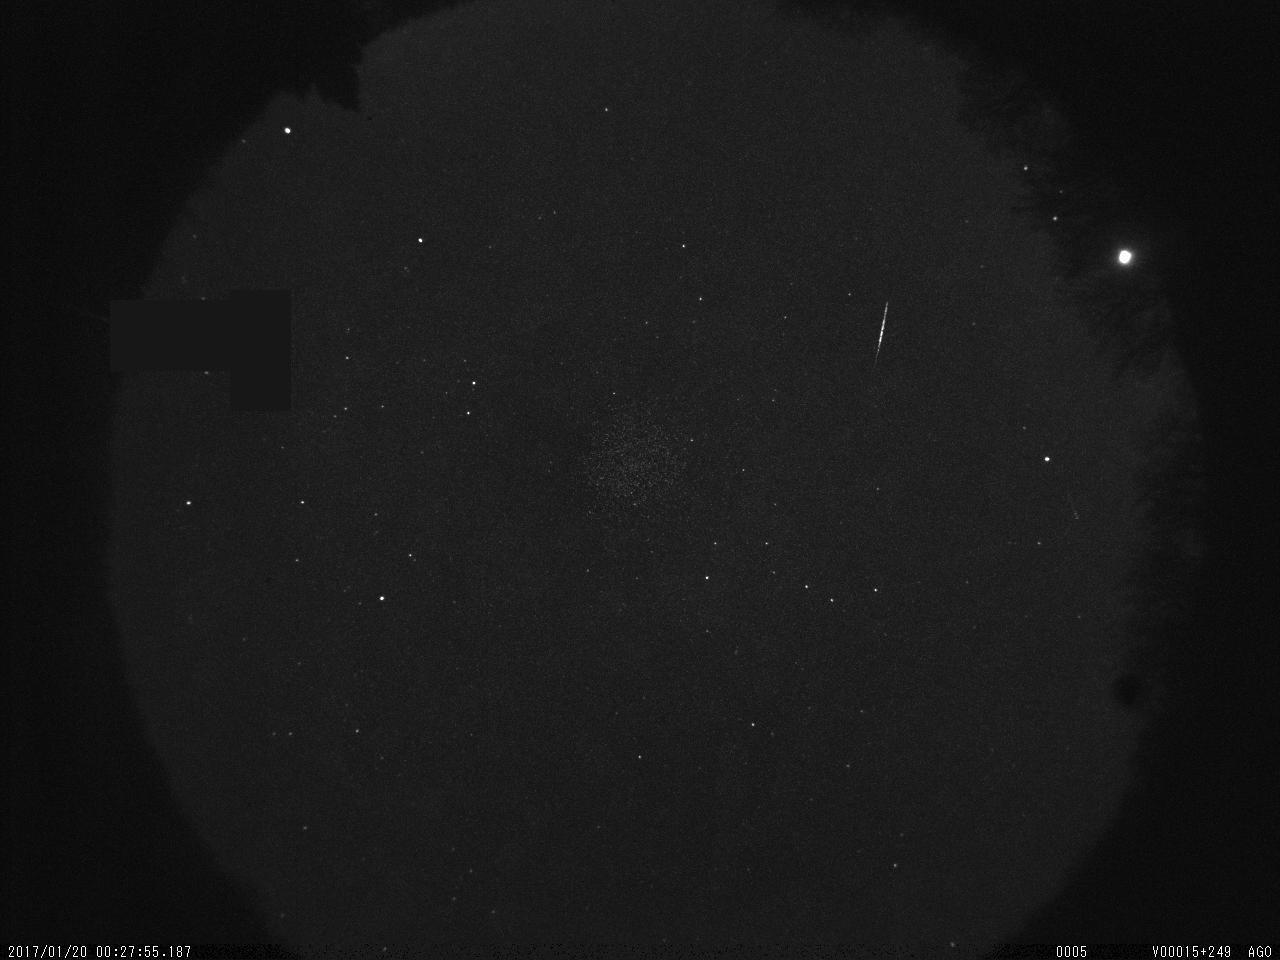meteor: (863, 294, 900, 372)
